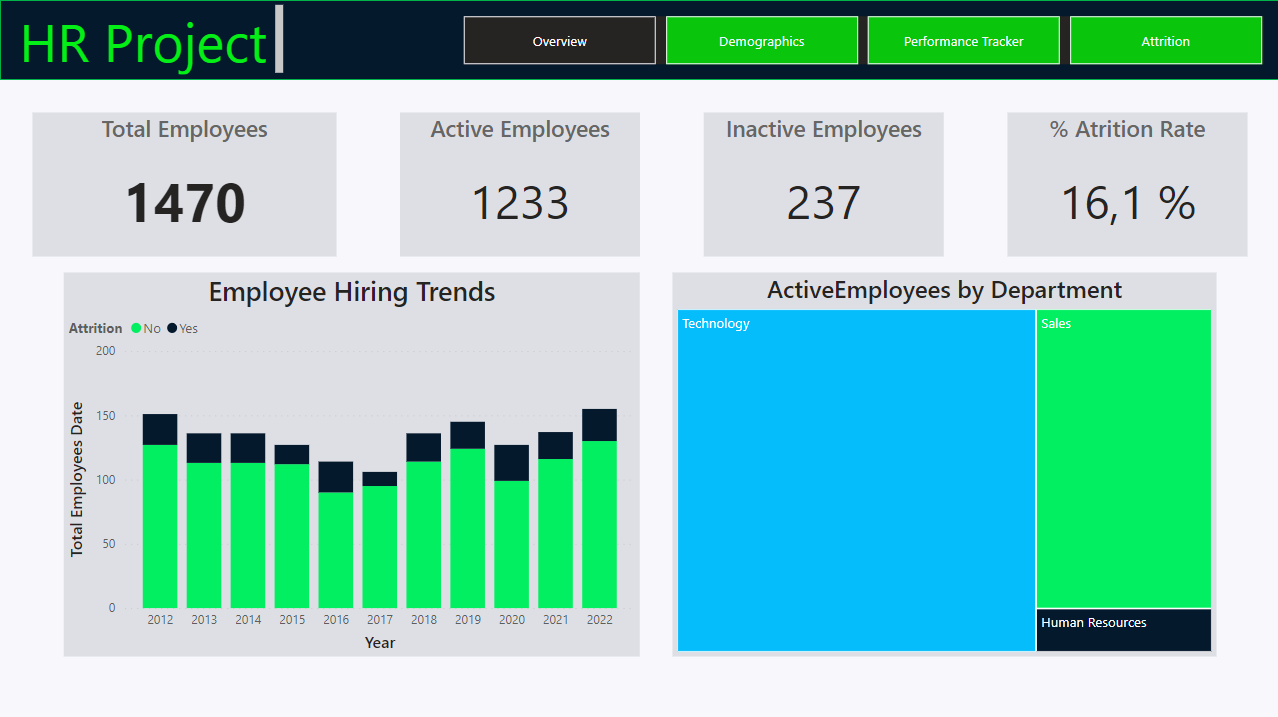

What the dashboard file says about the page in this screenshot:
{"tool":"powerbi","page":{"name":"Overview","canvas":[1280,720],"ordinal":0},"visuals":[{"type":"shape","box":[0,0.3,1280,79.7],"z":0,"group":"g1"},{"type":"card","title":"Active Employees","fields":{"Values":["_Measures.ActiveEmployees"]},"box":[400,112,240,144],"z":0},{"type":"textbox","box":[0,0,288,79.7],"z":1000,"group":"g1"},{"type":"card","title":"Inactive Employees","fields":{"Values":["_Measures.InactiveEmployees"]},"box":[704,112,240,144],"z":1000},{"type":"card","title":"% Atrition Rate","fields":{"Values":["_Measures.% Attrition Rate"]},"box":[1008,112,240,144],"z":2000},{"type":"card","title":"Total Employees","fields":{"Values":["_Measures.Total Employees"]},"box":[32,112,304,144],"z":3000},{"type":"group","id":"g1","title":"Group 1","box":[0,0,1280,80],"z":4000,"group":"g2"},{"type":"columnChart","title":"Employee Hiring Trends","fields":{"Category":["DimDate.Date.Variation.Date Hierarchy.Year"],"Y":["_Measures.Total Employees Date"],"Series":["DimEmployee.Attrition"]},"box":[64,272,576,384],"z":5000},{"type":"treemap","fields":{"Group":["DimEmployee.Department","DimEmployee.JobRole"],"Values":["_Measures.ActiveEmployees"]},"box":[672,272,544,384],"z":6000},{"type":"pageNavigator","box":[464,16,800,48],"z":7000,"group":"g2"},{"type":"group","id":"g2","title":"Group 2","box":[0,0,1280,80],"z":7001}]}

Visuals, with their boxes in screenshot pixels (x1, y1, x2, y2), scaled from the page's 1280x720 canvas onto the 1278x717 screenshot:
shape: 0:0:1277:80
"Active Employees" card: 399:112:639:255
textbox: 0:0:288:79
"Inactive Employees" card: 703:112:943:255
"% Atrition Rate" card: 1006:112:1246:255
"Total Employees" card: 32:112:335:255
"Group 1" group: 0:0:1277:80
"Employee Hiring Trends" columnChart: 64:271:639:653
treemap - DimEmployee.Department x DimEmployee.JobRole: 671:271:1214:653
pageNavigator: 463:16:1262:64
"Group 2" group: 0:0:1277:80
